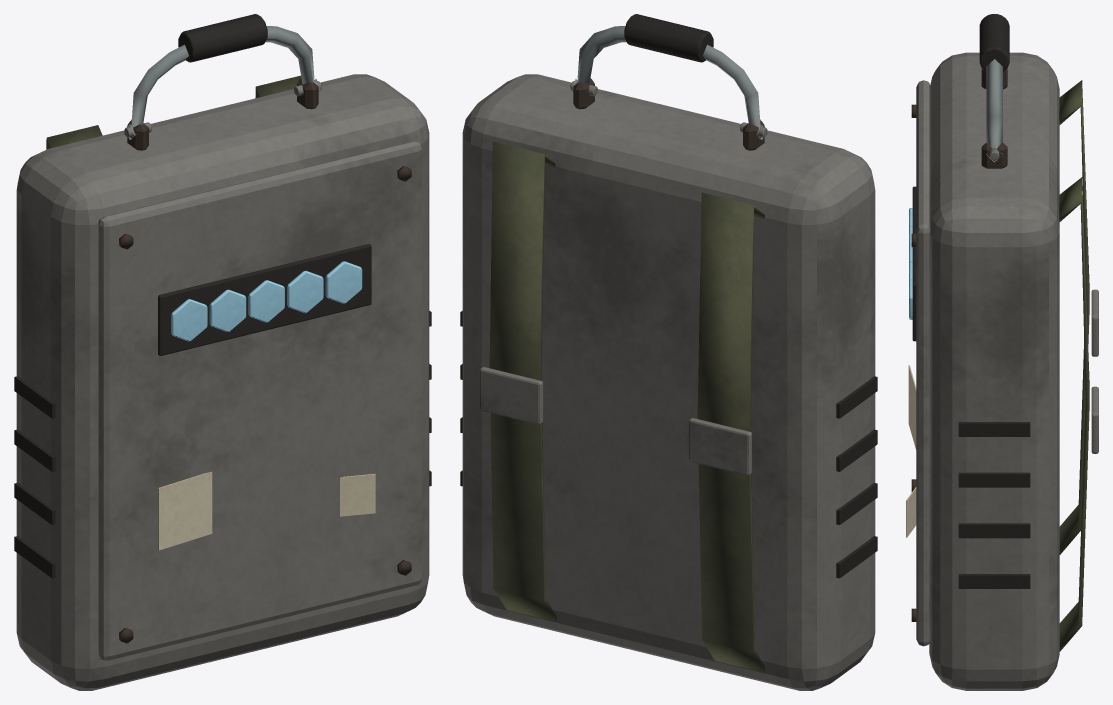
File: prop_shield_medium_01.gltf
The picture shows the model from 3 angles, left to right: view 1: azimuth 30°, elevation 25°; view 2: azimuth 150°, elevation 25°; view 3: azimuth 270°, elevation 25°; orthographic projection. The views are drawn at different scales.
Parts seen in each view (by area): view 1: prop_shield_medium_01_item_atlas_01; view 2: prop_shield_medium_01_item_atlas_01; view 3: prop_shield_medium_01_item_atlas_01.
Boxes of the visible parts, box(x1,y1,x2,y2) form: prop_shield_medium_01_item_atlas_01: box(14, 14, 431, 690); prop_shield_medium_01_item_atlas_01: box(460, 14, 877, 690); prop_shield_medium_01_item_atlas_01: box(906, 14, 1098, 690).
Size of the model in its own units: 0.2236 by 0.347 by 0.1035.
1 material, 1 textured.
